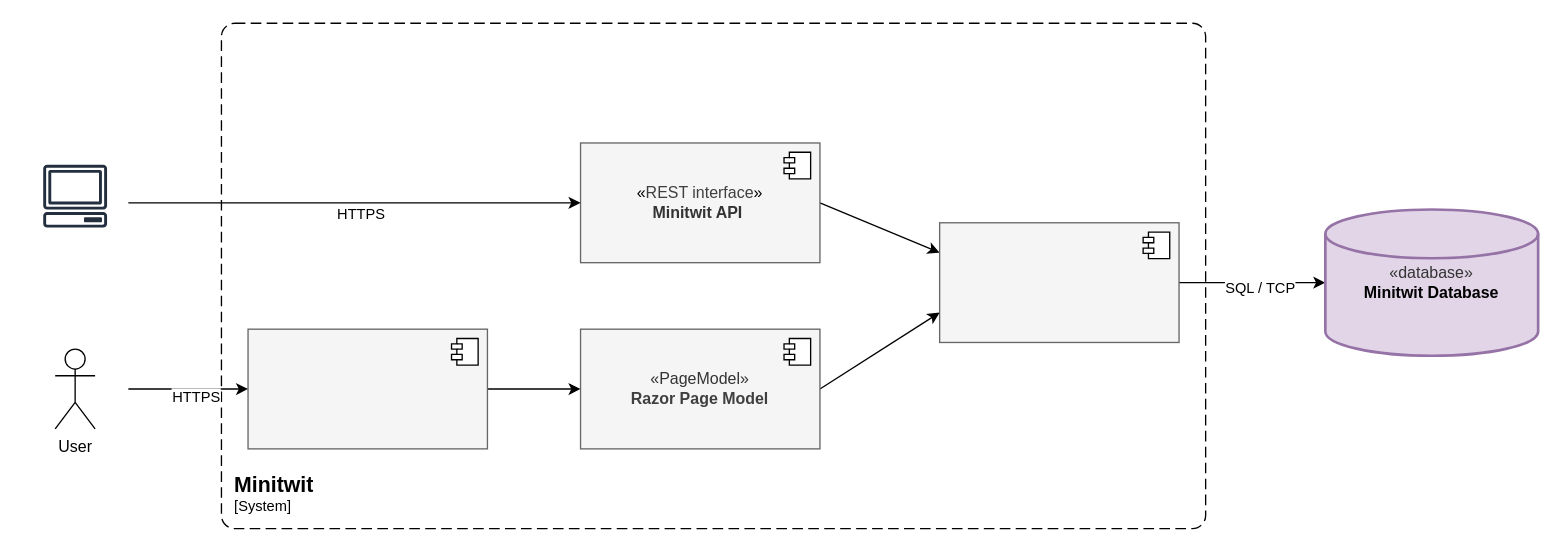
The diagram is 1563 pixels wide and 552 high, and some of its shapes have lost their labels. Each missing label, with the centre of its shape:
"External Client" goes at [74,195].
"« Web UI » Razor Pages Frontend" goes at [367,388].
"«Business Logic» Minitwit Core" goes at [1058,281].
